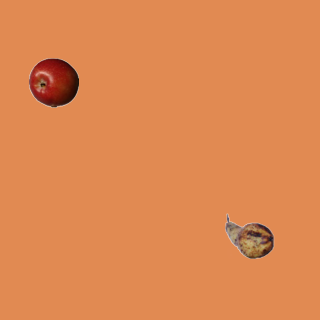Apple Braeburn: (28, 57, 78, 107)
Pear Abate: (224, 211, 274, 261)
